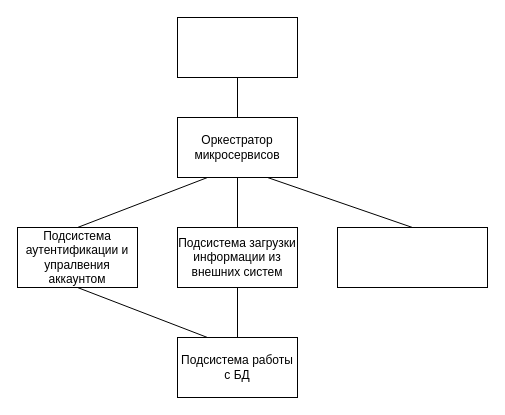
Some shapes in this 505 by 415 pixel diagram are drawn without their labels. Each missing label, with the centre of its shape:
Подсистема пользовательского интерфейса (frontend): [237,47]
Подсистема технического анализа финансовых показателей: [412,257]
